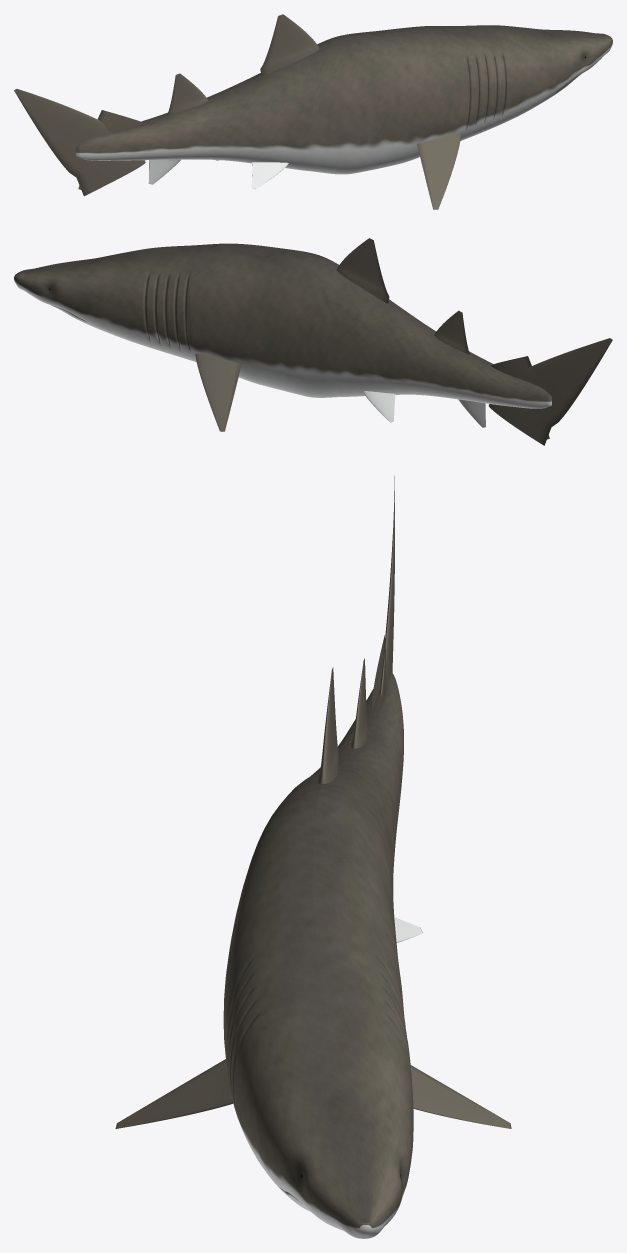
The model's file is sand_tiger_shark.glb.
3 views of the same model, one above another, from view 1: azimuth 30°, elevation 25°; view 2: azimuth 150°, elevation 25°; view 3: azimuth 270°, elevation 25° (orthographic). The views are drawn at different scales.
Visible parts, largest first — view 1: SandTigerShark_Body, SandTigerShark_Fins; view 2: SandTigerShark_Body, SandTigerShark_Fins; view 3: SandTigerShark_Body, SandTigerShark_Fins.
Boxes of the visible parts, x1,y1,x2,y2 form: SandTigerShark_Body: [76, 25, 612, 174]; SandTigerShark_Fins: [14, 14, 461, 209]; SandTigerShark_Body: [14, 243, 551, 408]; SandTigerShark_Fins: [195, 238, 612, 445]; SandTigerShark_Body: [223, 672, 413, 1238]; SandTigerShark_Fins: [115, 476, 511, 1128].
Size of the model in its own units: 2.5 by 0.7297 by 0.7256.
3 materials, 1 textured.
